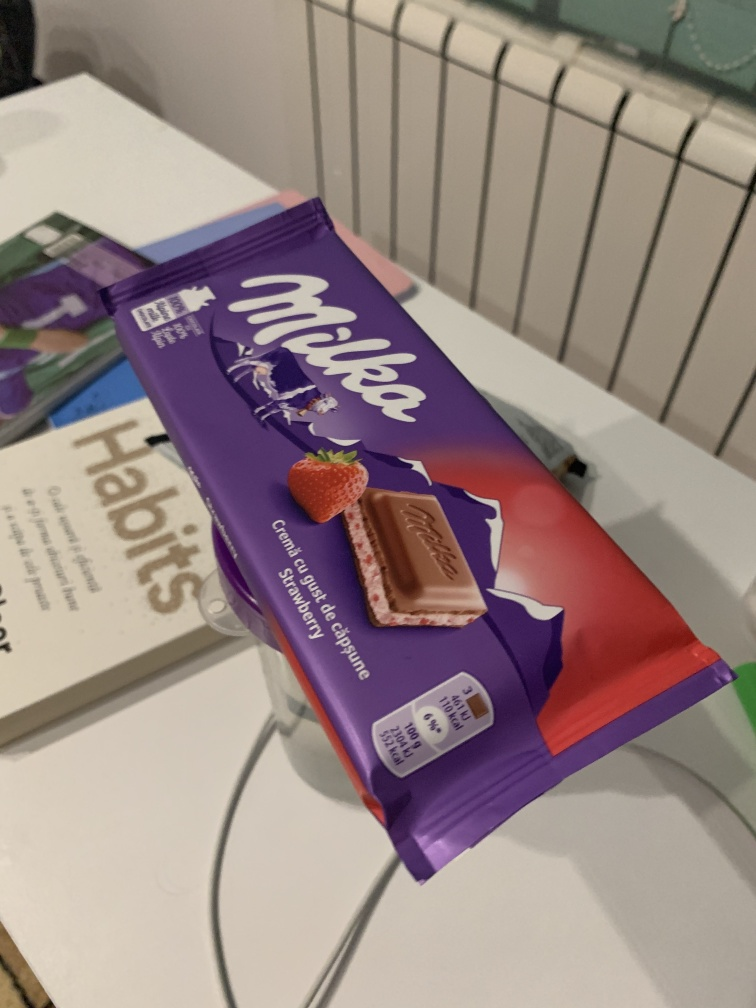milka: (99, 195, 742, 887)
